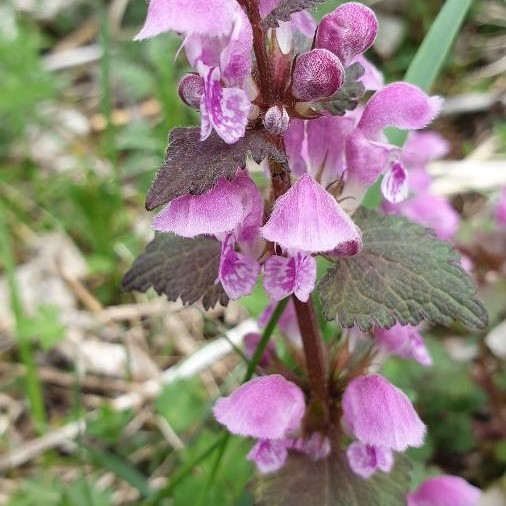obstacle: (163, 23, 484, 476)
